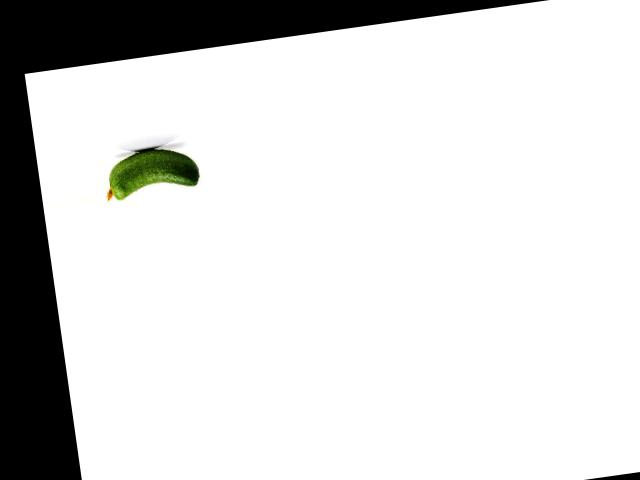cucumber: (100, 142, 202, 202)
